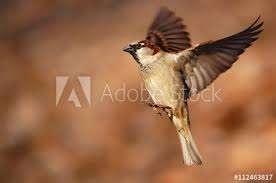hsparrow: (120, 4, 268, 167)
